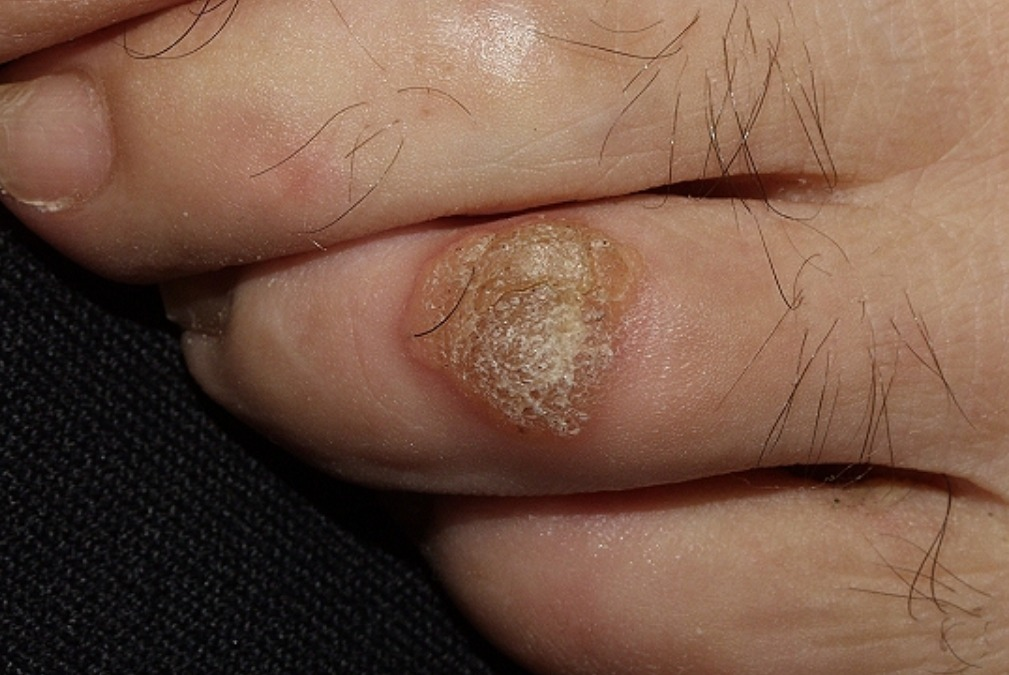Warts: (396, 196, 663, 471)
